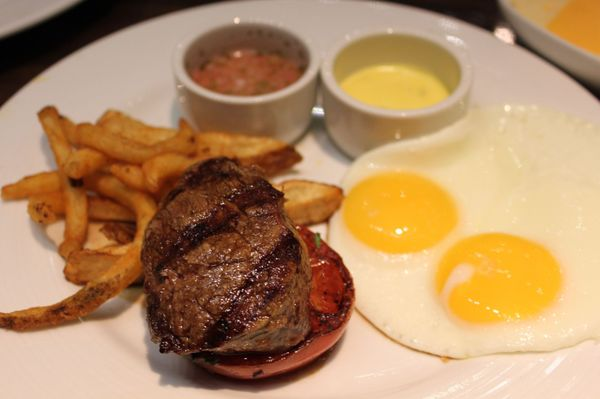sushi: (318, 23, 472, 160), (170, 19, 321, 146), (497, 1, 600, 101)
